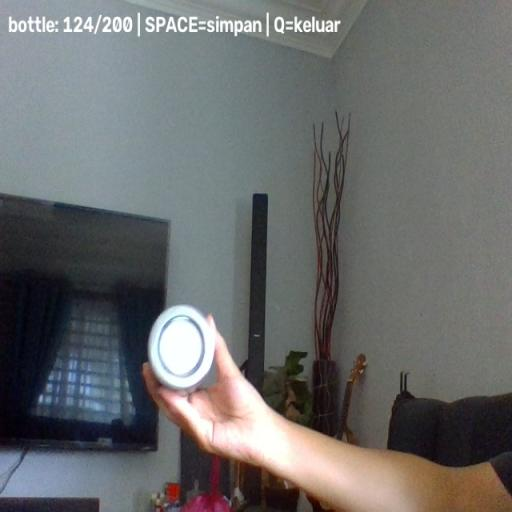Bottle: (147, 304, 217, 395)
